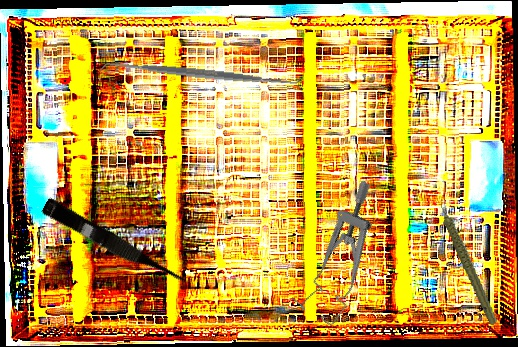Handpiece: (437, 189, 499, 331)
Micro Scissor: (38, 196, 193, 296)
Spatula Surgical: (99, 52, 301, 96)
Speculum: (280, 178, 412, 330)
